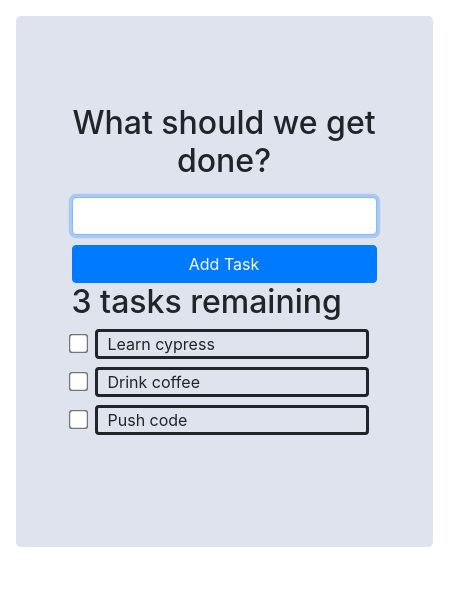
The add todo form › creates a task via enter on keyboard
The image size is (450, 602).
Type "Learn about cypress" into the field with id "new-todo-input" at (225, 216), box [72, 197, 377, 235]
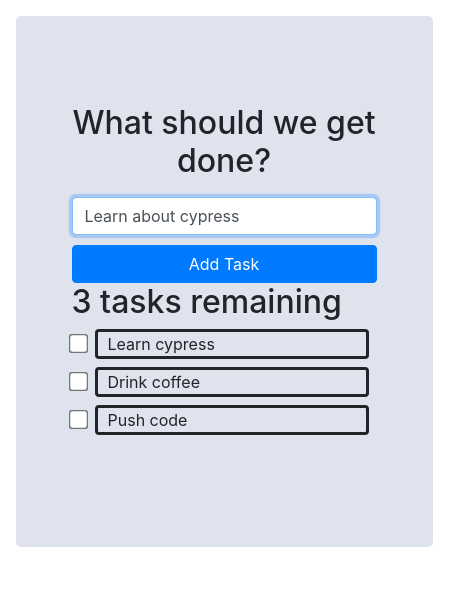
Press Enter in the field with id "new-todo-input", box [72, 197, 377, 235]
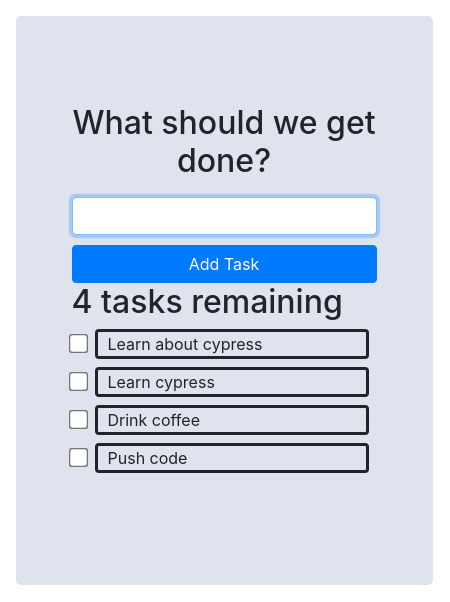
Result: the label "Learn about cypress" is shown at [94, 329, 369, 359]
